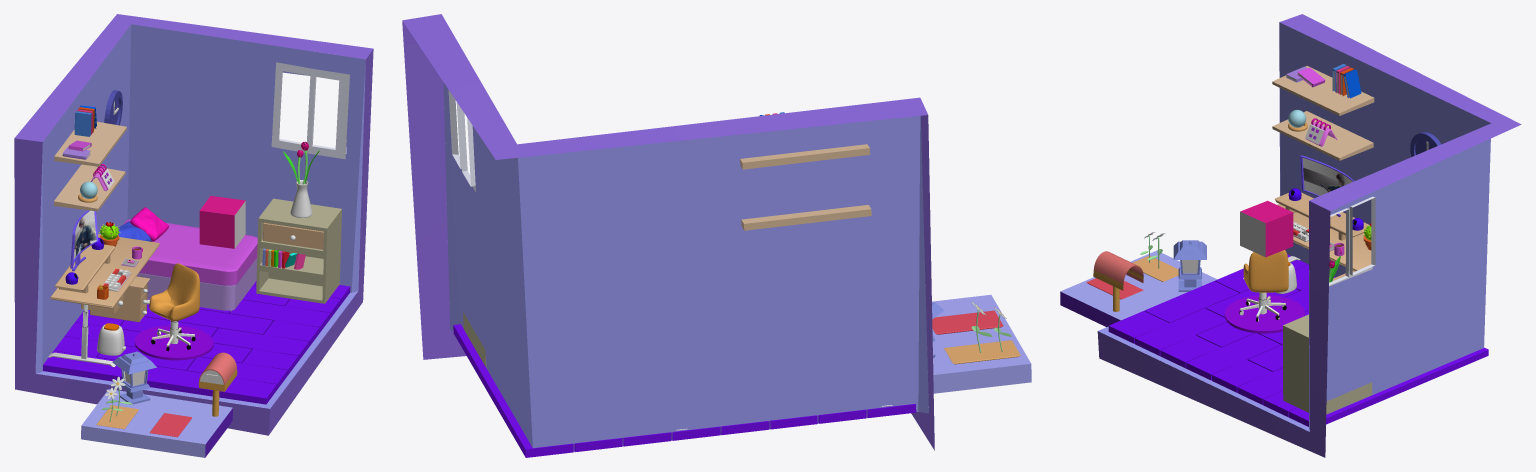
File: Room.glb
The picture shows the model from 3 angles, left to right: view 1: azimuth 30°, elevation 25°; view 2: azimuth 150°, elevation 25°; view 3: azimuth 270°, elevation 25°; orthographic projection. The views are drawn at different scales.
Visible parts, largest first — view 1: Body, drawer, Bed, Minifloor, shelve, floor, desk, tableitem, chut, chair, Lamp, Mailbox (+4 smaller); view 2: Body, Minifloor, shelve, Floorsecond, Floorfirst; view 3: Body, shelve, Minifloor, drawer, floor, chut, tableitem, chair, monitor, Mailbox, Lamp, desk (+3 smaller).
Boxes of the visible parts, x1,y1,x2,y2 form: Body: (14, 14, 373, 435); drawer: (256, 141, 341, 303); Bed: (118, 207, 257, 311); Minifloor: (81, 389, 232, 457); shelve: (54, 105, 126, 211); floor: (90, 276, 213, 360); desk: (48, 234, 159, 367); tableitem: (55, 222, 142, 299); chut: (199, 196, 245, 248); chair: (149, 263, 199, 321); Lamp: (112, 351, 156, 404); Mailbox: (198, 352, 237, 416); Body: (402, 14, 934, 457); Minifloor: (928, 294, 1031, 393); shelve: (740, 112, 871, 230); Floorsecond: (944, 340, 1020, 364); Floorfirst: (932, 310, 1003, 334); Body: (1097, 14, 1521, 457); shelve: (1272, 64, 1374, 160); Minifloor: (1060, 250, 1217, 327); drawer: (1283, 256, 1372, 414); floor: (1224, 262, 1354, 333); chut: (1240, 200, 1293, 257); tableitem: (1275, 188, 1371, 256); chair: (1243, 250, 1288, 292); monitor: (1300, 155, 1354, 216); Mailbox: (1093, 251, 1143, 311); Lamp: (1173, 240, 1206, 291); desk: (1243, 204, 1371, 278).
Size of the model in its own units: 6.47 by 4.3 by 6.71.
Materials: 108 (1 with a texture image).
